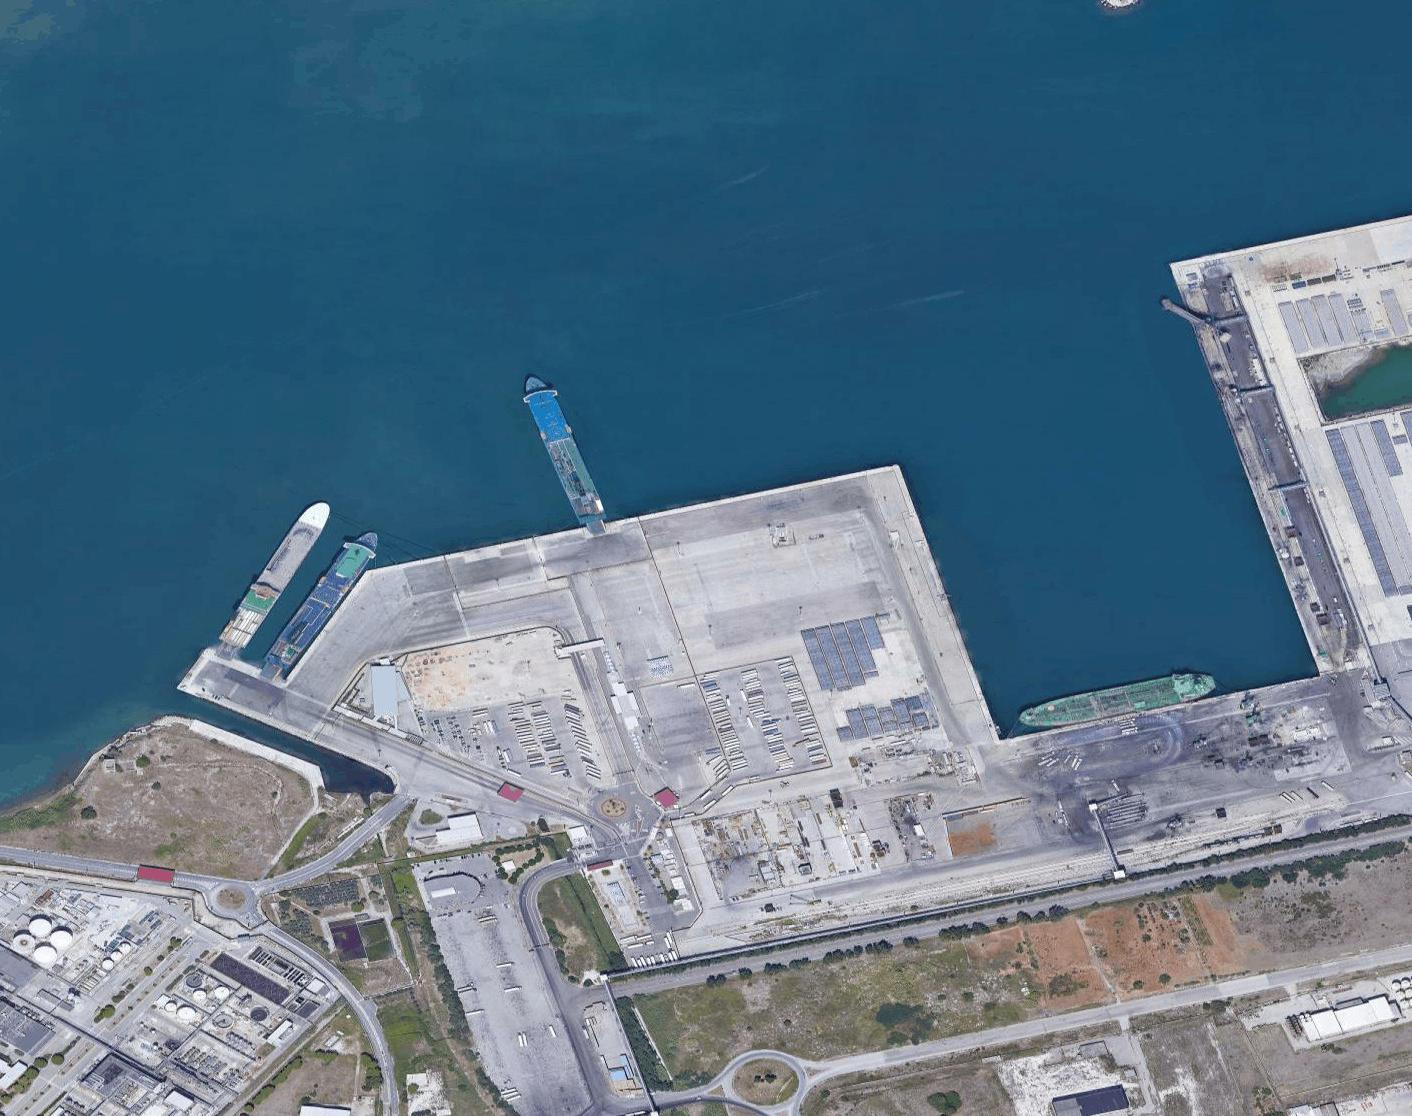harbor: (170, 194, 1412, 967)
